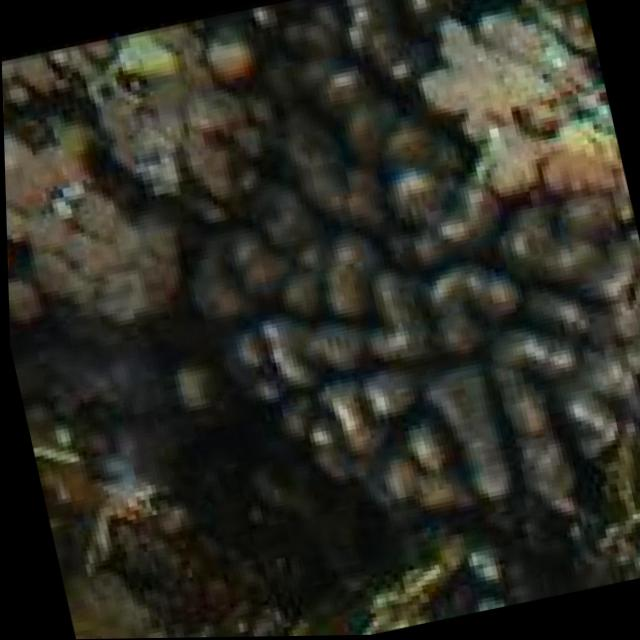Dead Coral: (183, 51, 640, 572)
